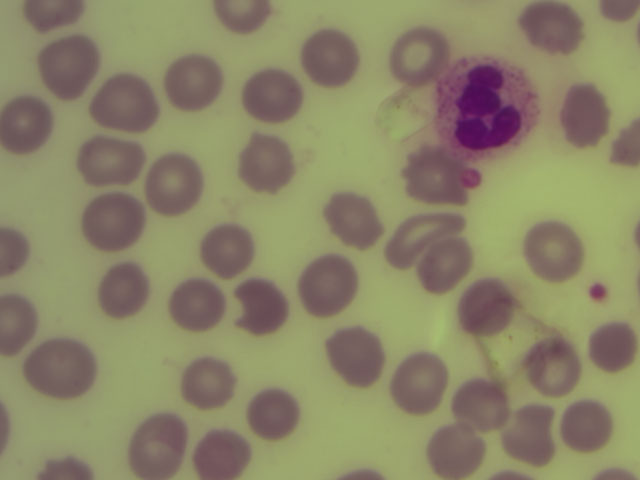Platelets: (461, 169, 484, 190), (590, 287, 606, 298)
RBC: (22, 336, 102, 398), (387, 211, 466, 269), (124, 411, 191, 479), (35, 35, 101, 99), (390, 349, 451, 417), (79, 192, 153, 248), (298, 254, 364, 316), (90, 72, 157, 132), (524, 221, 589, 282), (144, 151, 205, 215), (79, 131, 146, 187), (319, 190, 382, 248), (513, 1, 585, 51), (388, 26, 449, 85), (243, 66, 304, 125), (326, 327, 385, 387), (557, 81, 611, 145), (301, 29, 360, 86), (406, 143, 461, 204), (428, 425, 487, 480), (194, 425, 251, 480), (505, 404, 557, 464), (167, 56, 223, 109), (241, 136, 293, 191), (246, 383, 298, 438), (184, 355, 236, 410), (419, 237, 471, 292), (460, 281, 512, 336), (454, 375, 506, 430), (526, 338, 578, 393), (588, 316, 640, 371), (562, 398, 614, 453), (235, 279, 287, 334), (203, 223, 255, 278), (171, 277, 223, 332), (98, 263, 150, 318), (1, 98, 52, 153), (1, 290, 37, 355), (26, 1, 83, 31), (218, 1, 268, 35), (1, 223, 32, 276), (610, 120, 640, 171), (42, 455, 97, 480), (596, 1, 640, 26), (588, 462, 639, 480), (332, 465, 389, 480), (489, 466, 536, 480)
WBC: (441, 59, 540, 157)
